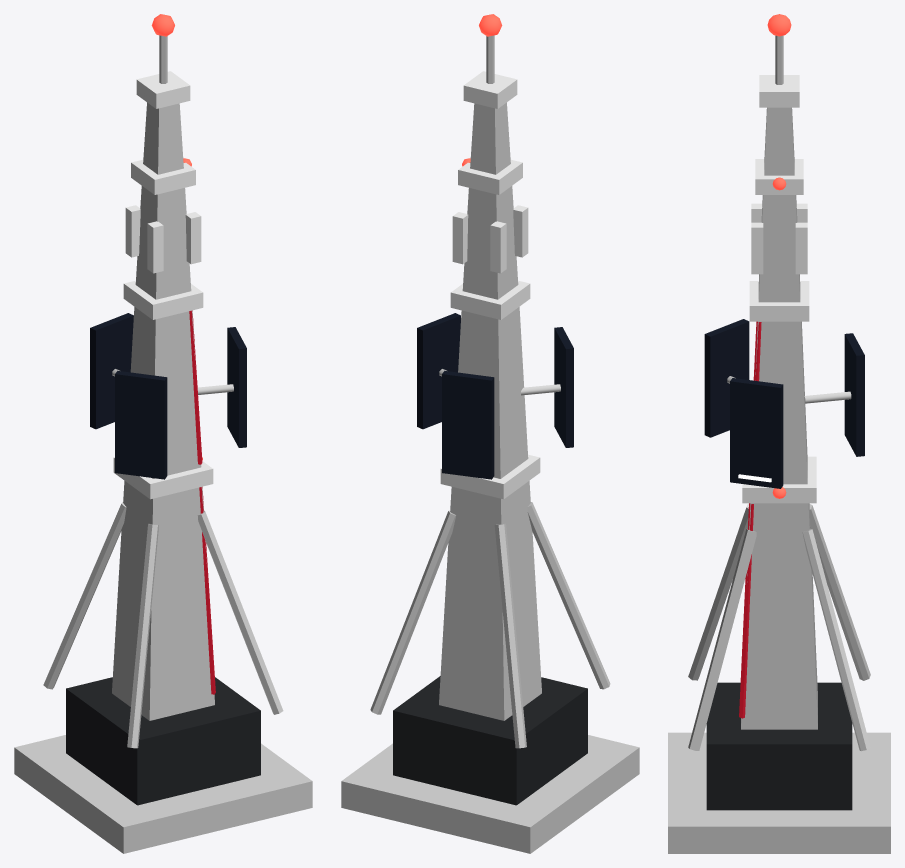
Rendered from comm_spire_a.gltf.
The picture shows the model from 3 angles, left to right: view 1: azimuth 30°, elevation 25°; view 2: azimuth 150°, elevation 25°; view 3: azimuth 270°, elevation 25°; orthographic projection. The views are drawn at different scales.
Visible parts, largest first — view 1: gun, graphite, plate, steel, detail_steel, seam; view 2: gun, graphite, plate, steel, detail_steel; view 3: gun, graphite, plate, steel, detail_steel, seam, red.
Boxes of the visible parts, x1,y1,x2,y2 form: gun: (14, 35, 312, 853); graphite: (66, 677, 260, 805); plate: (90, 313, 246, 479); steel: (113, 71, 213, 499); detail_steel: (125, 205, 201, 273); seam: (189, 310, 215, 694); gun: (341, 35, 639, 853); graphite: (393, 676, 587, 805); plate: (417, 313, 573, 479); steel: (440, 71, 540, 499); detail_steel: (452, 205, 528, 273); gun: (668, 35, 890, 853); graphite: (706, 682, 852, 810); plate: (704, 319, 864, 488); steel: (742, 75, 816, 503); detail_steel: (751, 203, 807, 274); seam: (739, 321, 761, 718); red: (767, 14, 791, 498).
Bounding box in the file's own units: 2.6 × 10.2 × 2.6.
